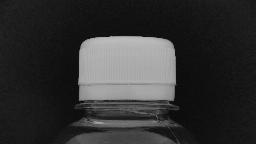Good Cap: (71, 32, 183, 114)
